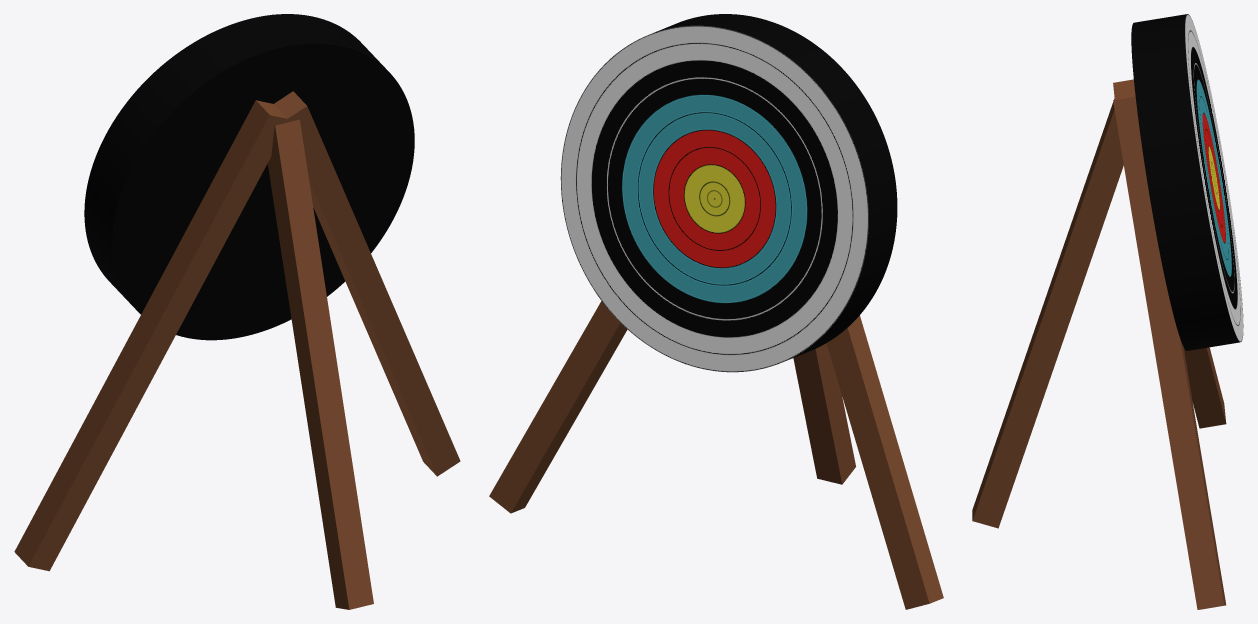
Rendered from Target.fbx.
3 renders of one model, left to right at view 1: azimuth 30°, elevation 25°; view 2: azimuth 150°, elevation 25°; view 3: azimuth 270°, elevation 25°, orthographic. The views are drawn at different scales.
Visible parts, largest first — view 1: Target, Wood; view 2: Target, Wood; view 3: Wood, Target.
Part boxes in pixels (left/top/right/bottom): Target: left=84, top=14, right=414, bottom=340; Wood: left=14, top=91, right=460, bottom=609; Target: left=560, top=14, right=897, bottom=372; Wood: left=489, top=301, right=943, bottom=609; Wood: left=972, top=79, right=1226, bottom=609; Target: left=1131, top=14, right=1243, bottom=350.
Size of the model in its own units: 3.51 by 3.99 by 1.99.
